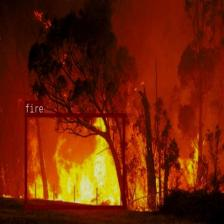fire: (24, 113, 124, 208)
